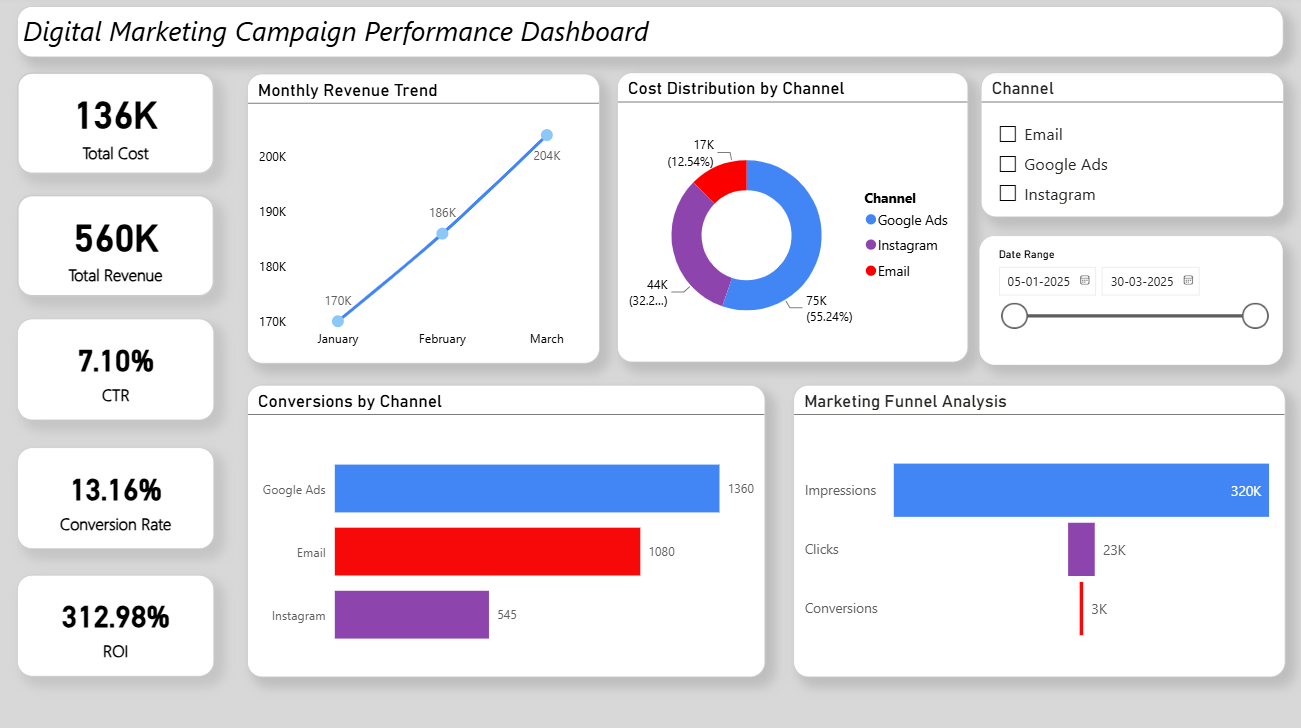

The page's visual inventory and layout, read from the dashboard file:
{"tool":"powerbi","page":{"name":"Page 1","canvas":[1280,720],"ordinal":0},"visuals":[{"type":"card","title":"Total Cost","fields":{"Values":["Digital Marketing Data.Total Cost"]},"box":[20,75,193.3,100],"z":0},{"type":"card","title":"Total Revenue","fields":{"Values":["Digital Marketing Data.Total Revenue"]},"box":[20,195,193.3,100],"z":1000},{"type":"card","title":"CTR","fields":{"Values":["Digital Marketing Data.CTR"]},"box":[20,316.7,193.3,100],"z":2000},{"type":"card","title":"Conversion Rate","fields":{"Values":["Digital Marketing Data.Conversion Rate"]},"box":[20,443.3,193.3,100],"z":3000},{"type":"card","title":"ROI","fields":{"Values":["Digital Marketing Data.ROI"]},"box":[20,568.3,193.3,100],"z":4000},{"type":"barChart","title":"Conversions by Channel","fields":{"Category":["Digital Marketing Data.Channel"],"Y":["Sum(Digital Marketing Data.Conversions)"]},"box":[245.7,381.4,508.6,287.1],"z":5000},{"type":"lineChart","title":"Monthly Revenue Trend","fields":{"Category":["Digital Marketing Data.Date.Variation.Date Hierarchy.Month"],"Y":["Digital Marketing Data.Total Revenue"]},"box":[245.4,76.2,346.2,284.6],"z":6000},{"type":"donutChart","title":"Cost Distribution by Channel ","fields":{"Category":["Digital Marketing Data.Channel"],"Y":["Sum(Digital Marketing Data.Cost)"]},"box":[608.3,75,345,285],"z":7000},{"type":"slicer","title":"Channel","fields":{"Values":["Digital Marketing Data.Channel"]},"box":[966.2,75,297.5,142.5],"z":8000},{"type":"slicer","title":"Month","fields":{"Values":["Digital Marketing Data.Date"]},"box":[964.3,235.7,297.5,126.2],"z":9000},{"type":"textbox","box":[19.9,10,1243.3,50],"z":10000},{"type":"funnel","title":"Marketing Funnel Analysis","fields":{"Y":["Sum(Digital Marketing Data.Impressions)","Sum(Digital Marketing Data.Clicks)","Sum(Digital Marketing Data.Conversions)"]},"box":[781.4,381.4,482.9,287.1],"z":11000}]}

Visuals, with their boxes in screenshot pixels (x1, y1, x2, y2), scaled from the page's 1280x720 canvas onto the 1301x728 screenshot:
"Total Cost" card: l=20, t=76, r=217, b=177
"Total Revenue" card: l=20, t=197, r=217, b=298
"CTR" card: l=20, t=320, r=217, b=421
"Conversion Rate" card: l=20, t=448, r=217, b=549
"ROI" card: l=20, t=575, r=217, b=676
"Conversions by Channel" barChart: l=250, t=386, r=767, b=676
"Monthly Revenue Trend" lineChart: l=249, t=77, r=601, b=365
"Cost Distribution by Channel " donutChart: l=618, t=76, r=969, b=364
"Channel" slicer: l=982, t=76, r=1284, b=220
"Month" slicer: l=980, t=238, r=1283, b=366
textbox: l=20, t=10, r=1284, b=61
"Marketing Funnel Analysis" funnel: l=794, t=386, r=1285, b=676
